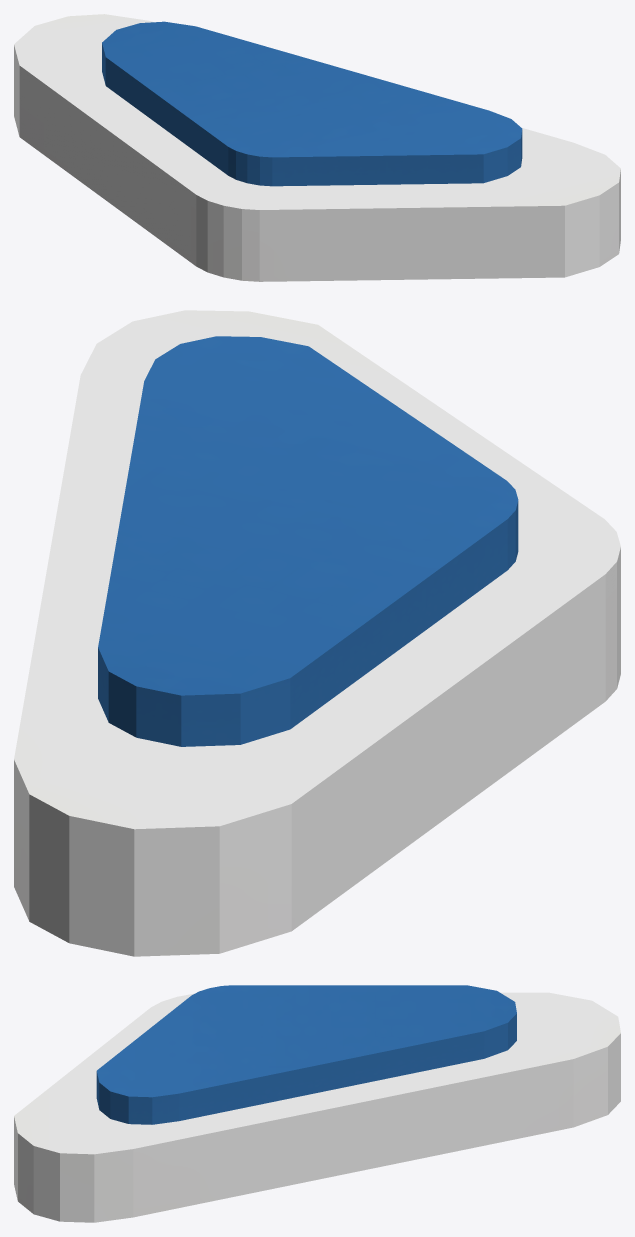
The model's file is Left Block.fbx.
3 renders of one model, top to bottom at view 1: azimuth 30°, elevation 25°; view 2: azimuth 150°, elevation 25°; view 3: azimuth 270°, elevation 25°, orthographic. The views are drawn at different scales.
Visible parts, largest first — view 1: Plane.001; view 2: Plane.001; view 3: Plane.001.
Part boxes in pixels (left/top/right/bottom): Plane.001: left=14, top=14, right=620, bottom=281; Plane.001: left=14, top=310, right=620, bottom=956; Plane.001: left=14, top=985, right=620, bottom=1222.
Bounding box in the file's own units: 31.78 × 8.79 × 50.38.
